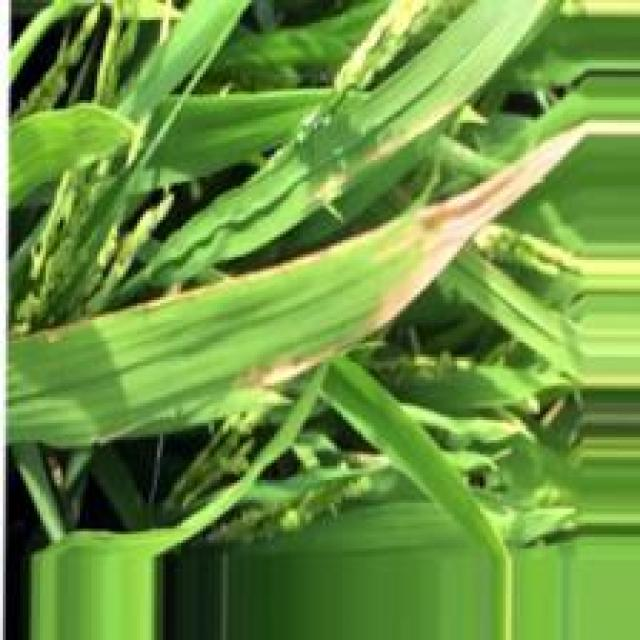Unhealthy: (365, 120, 599, 335), (365, 103, 453, 163), (246, 355, 320, 391), (310, 175, 346, 201)
